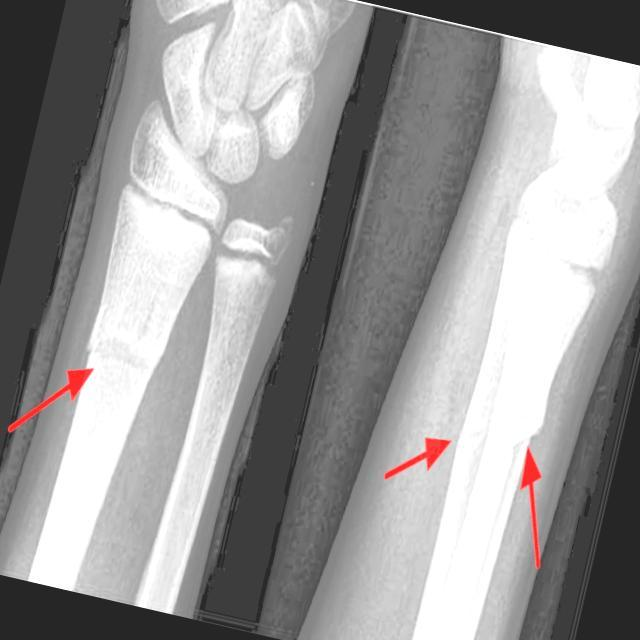GreenStick Fracture: (85, 336, 152, 376), (506, 428, 546, 462), (456, 408, 488, 448)
